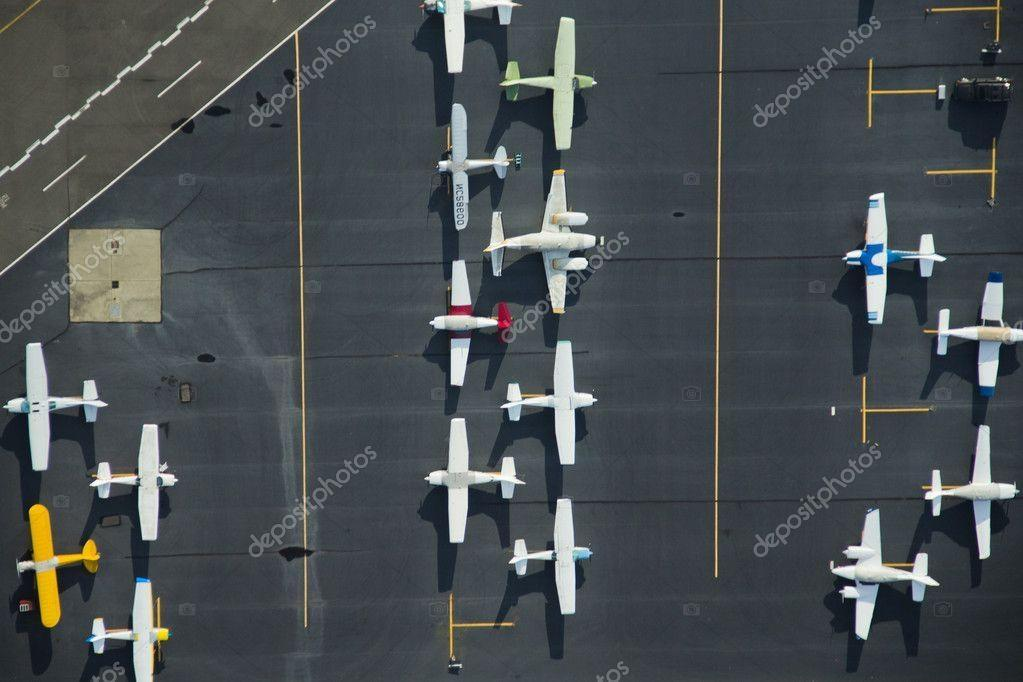Airplane: (483, 171, 596, 313), (831, 508, 938, 640), (842, 193, 946, 324), (3, 345, 107, 471), (499, 17, 597, 150), (923, 425, 1019, 559), (425, 418, 525, 543), (500, 340, 597, 465), (933, 273, 1022, 396), (17, 504, 100, 628), (429, 261, 510, 386), (89, 425, 177, 540), (508, 499, 591, 614), (436, 103, 510, 230), (88, 579, 169, 681), (420, 0, 518, 74)
